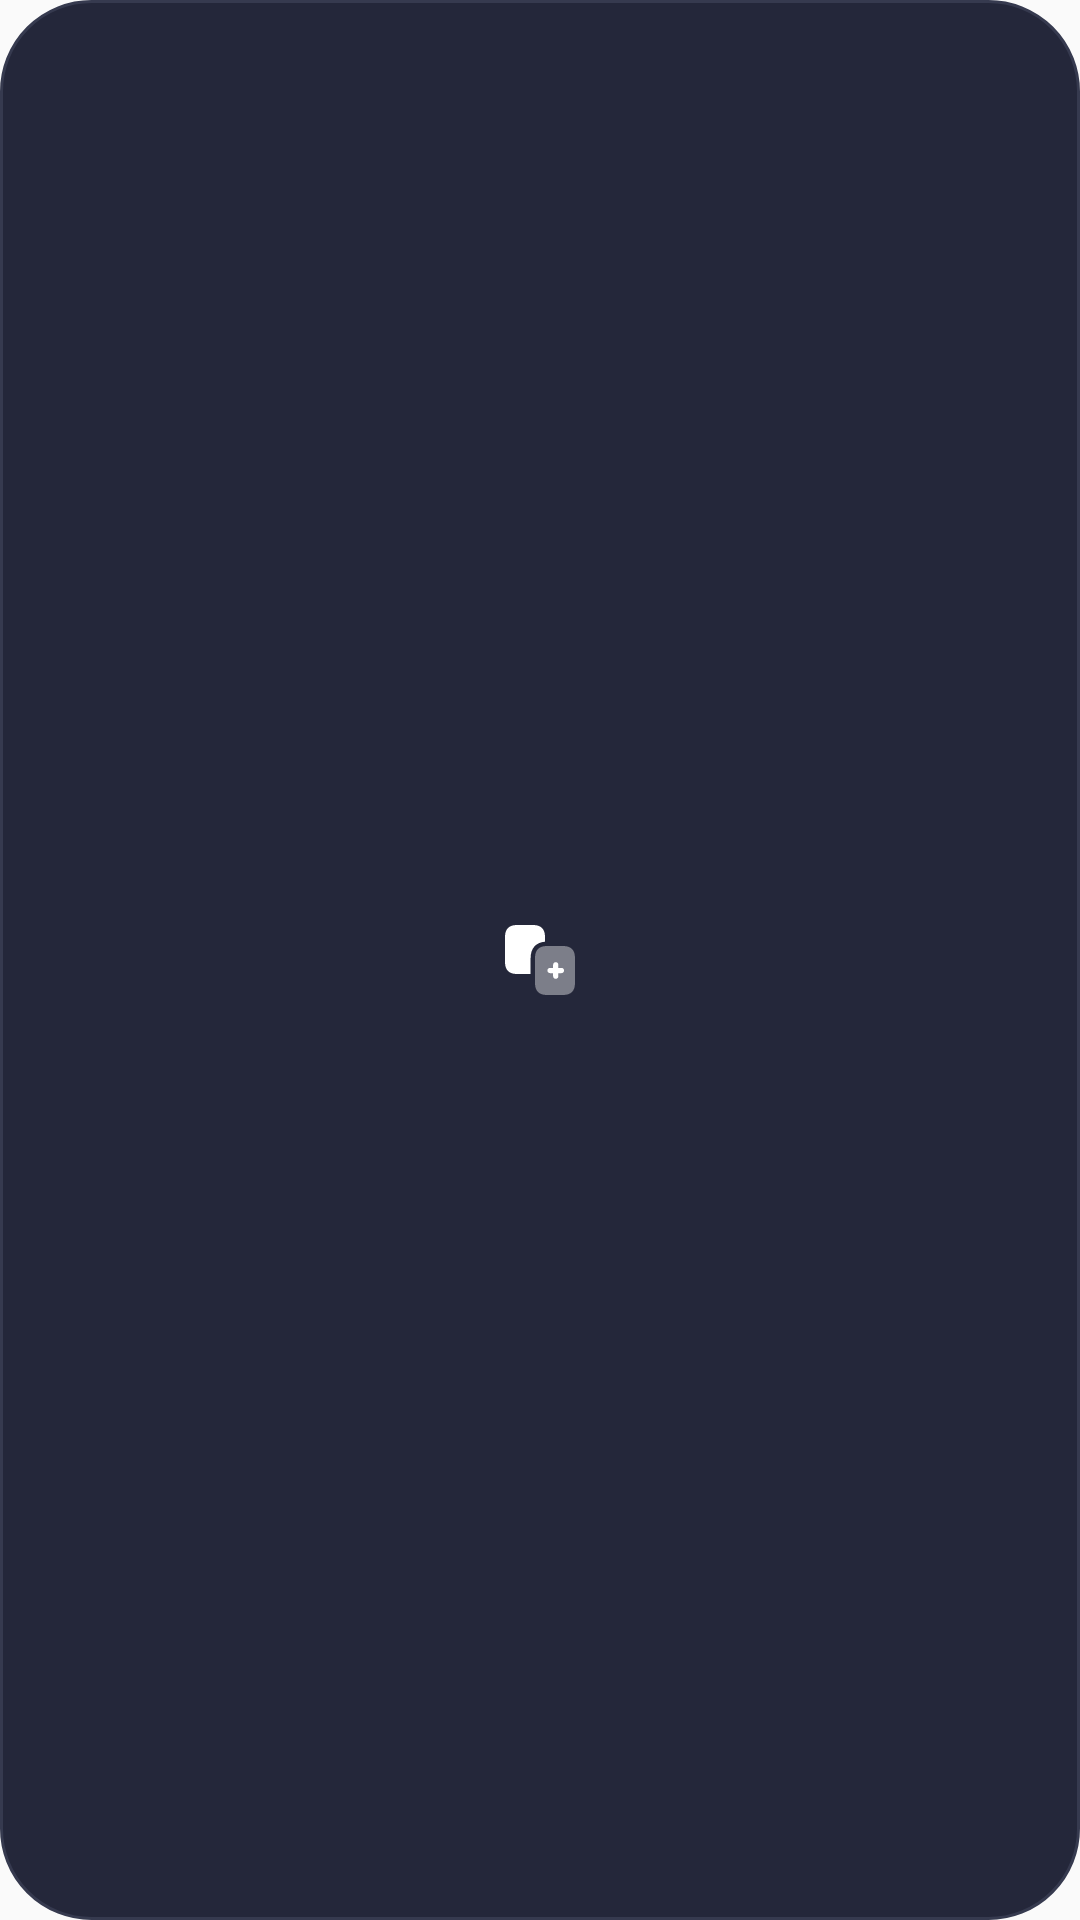

Icon bounding boxes for this 1080w x 1920h phone screenshot, format (x1, y1, x2, y2):
Add Transaction: (505, 925, 575, 995)
